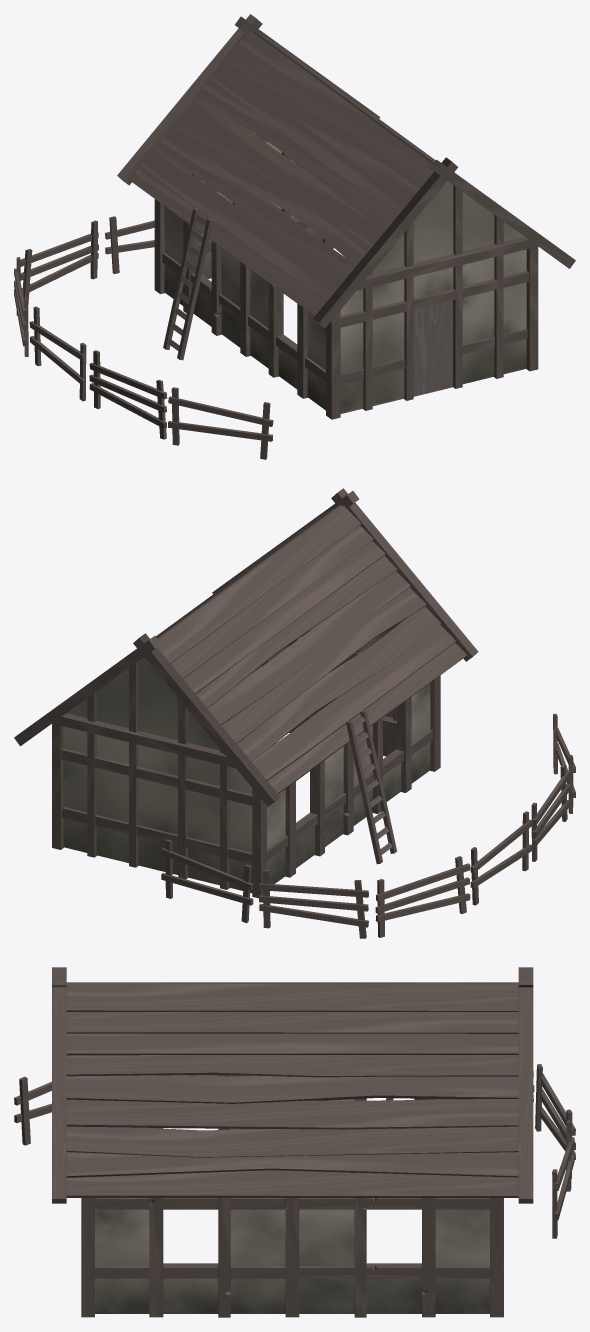
The model's file is hut.fbx.
3 renders of one model, top to bottom at view 1: azimuth 30°, elevation 25°; view 2: azimuth 150°, elevation 25°; view 3: azimuth 270°, elevation 25°, orthographic. The views are drawn at different scales.
Parts seen in each view (by area): view 1: Plane.002, F_Beam_04.001, Plane.001, F_Beam_04.011, F_Beam_04.017, F_Beam_04.018, F_Beam_04.015, F_Beam_04.016, Plane.004, F_Beam_04.012, F_Beam_04.013, F_Beam_04.014 (+23 smaller); view 2: Plane.003, F_Beam_04.001, F_Beam_04.011, Plane.001, F_Beam_04.017, F_Beam_04.018, F_Beam_04.015, F_Beam_04.016, Plane.004, F_Beam_04.012, F_Beam_04.013, F_Beam_04.014 (+27 smaller); view 3: Plane.001, F_Beam_04.002, F_Beam_04.007, F_Beam_04.008, F_Beam_04.006, F_Beam_04.010, F_Beam_04.004, F_Beam_04.003, F_Beam_04.005, F_Beam_04.009, F_Beam_04.001, F_Beam_03.008 (+9 smaller).
Part boxes in pixels (x1,y1,x2,y2): Plane.002: [340, 249, 526, 413]; F_Beam_04.001: [117, 14, 575, 328]; Plane.001: [164, 207, 325, 410]; F_Beam_04.011: [233, 31, 434, 186]; F_Beam_04.017: [154, 131, 355, 284]; F_Beam_04.018: [139, 148, 340, 302]; F_Beam_04.015: [184, 95, 384, 247]; F_Beam_04.016: [168, 112, 370, 265]; Plane.004: [249, 129, 523, 272]; F_Beam_04.012: [221, 50, 420, 202]; F_Beam_04.013: [209, 66, 408, 216]; F_Beam_04.014: [197, 81, 396, 231]; Plane.003: [63, 726, 252, 892]; F_Beam_04.001: [14, 488, 478, 806]; F_Beam_04.011: [157, 505, 361, 663]; Plane.001: [267, 683, 430, 883]; F_Beam_04.017: [237, 606, 441, 761]; F_Beam_04.018: [252, 625, 455, 780]; F_Beam_04.015: [208, 571, 410, 724]; F_Beam_04.016: [221, 587, 426, 743]; Plane.004: [66, 618, 406, 750]; F_Beam_04.012: [171, 525, 373, 678]; F_Beam_04.013: [183, 541, 385, 693]; F_Beam_04.014: [196, 555, 397, 708]; Plane.001: [95, 1075, 489, 1313]; F_Beam_04.002: [66, 983, 518, 1011]; F_Beam_04.007: [66, 1099, 518, 1129]; F_Beam_04.008: [66, 1126, 518, 1157]; F_Beam_04.006: [66, 1075, 518, 1103]; F_Beam_04.010: [66, 1170, 518, 1197]; F_Beam_04.004: [66, 1033, 518, 1055]; F_Beam_04.003: [66, 1012, 518, 1033]; F_Beam_04.005: [66, 1055, 518, 1077]; F_Beam_04.009: [66, 1152, 518, 1177]; F_Beam_04.001: [52, 967, 533, 1203]; F_Beam_03.008: [95, 1263, 489, 1278].
Bounding box in the file's own units: 684 × 392 × 695.
4 materials, 4 textured.
